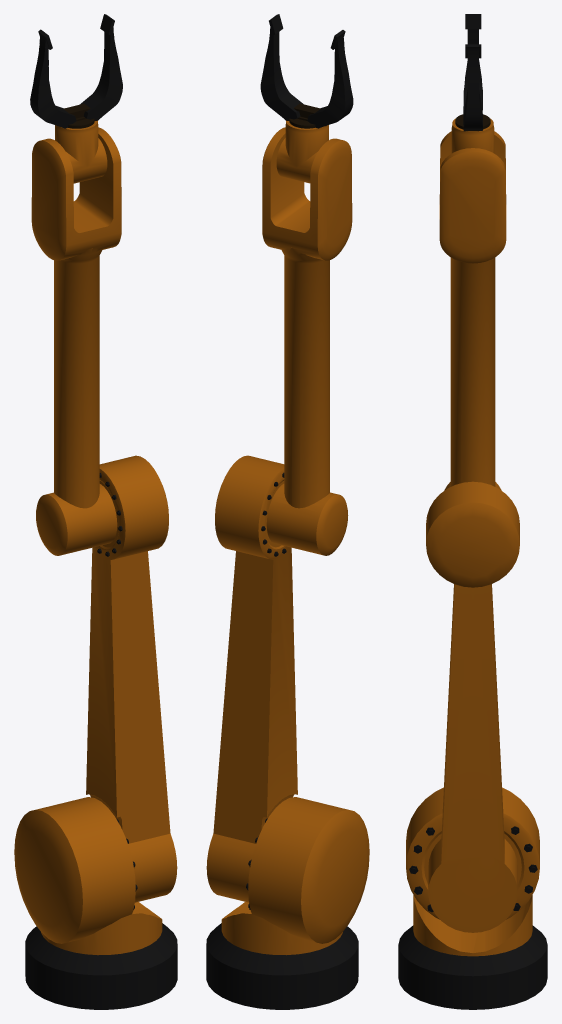
Rendered from arm_uni.fbx.
3 views of the same model, side by side, from view 1: azimuth 30°, elevation 25°; view 2: azimuth 150°, elevation 25°; view 3: azimuth 270°, elevation 25° (orthographic). The views are drawn at different scales.
Parts seen in each view (by area): view 1: ARM_LowerArmJoint, ARM_UpperArmJoint, ARM_RotatingBaseJoint, Base, ARM_FaceAttachJoint, HolderArm, HolderArm.001, ARM_FaceRotator; view 2: ARM_LowerArmJoint, ARM_UpperArmJoint, ARM_RotatingBaseJoint, Base, ARM_FaceAttachJoint, HolderArm, HolderArm.001, ARM_FaceRotator; view 3: ARM_LowerArmJoint, ARM_UpperArmJoint, ARM_RotatingBaseJoint, Base, HolderArm, ARM_FaceAttachJoint, HolderArm.001, screws_base.
Boxes of the visible parts, x1,y1,x2,y2 form: ARM_LowerArmJoint: (86, 455, 177, 902); ARM_UpperArmJoint: (31, 127, 121, 555); ARM_RotatingBaseJoint: (14, 797, 162, 955); Base: (25, 923, 177, 1009); ARM_FaceAttachJoint: (55, 120, 107, 183); HolderArm: (80, 14, 122, 120); HolderArm.001: (30, 29, 76, 128); ARM_FaceRotator: (63, 103, 94, 128); ARM_LowerArmJoint: (206, 455, 297, 902); ARM_UpperArmJoint: (262, 127, 352, 555); ARM_RotatingBaseJoint: (221, 797, 369, 955); Base: (206, 923, 358, 1009); ARM_FaceAttachJoint: (276, 120, 328, 183); HolderArm: (260, 14, 303, 120); HolderArm.001: (307, 30, 353, 128); ARM_FaceRotator: (289, 103, 326, 128); ARM_LowerArmJoint: (426, 481, 519, 932); ARM_UpperArmJoint: (439, 131, 506, 490); ARM_RotatingBaseJoint: (406, 787, 539, 956); Base: (398, 925, 547, 1009); HolderArm: (463, 44, 482, 131); ARM_FaceAttachJoint: (451, 118, 494, 153); HolderArm.001: (463, 14, 482, 115); screws_base: (409, 826, 537, 912).
Bounding box in the file's own units: 2.02 × 13.87 × 2.
